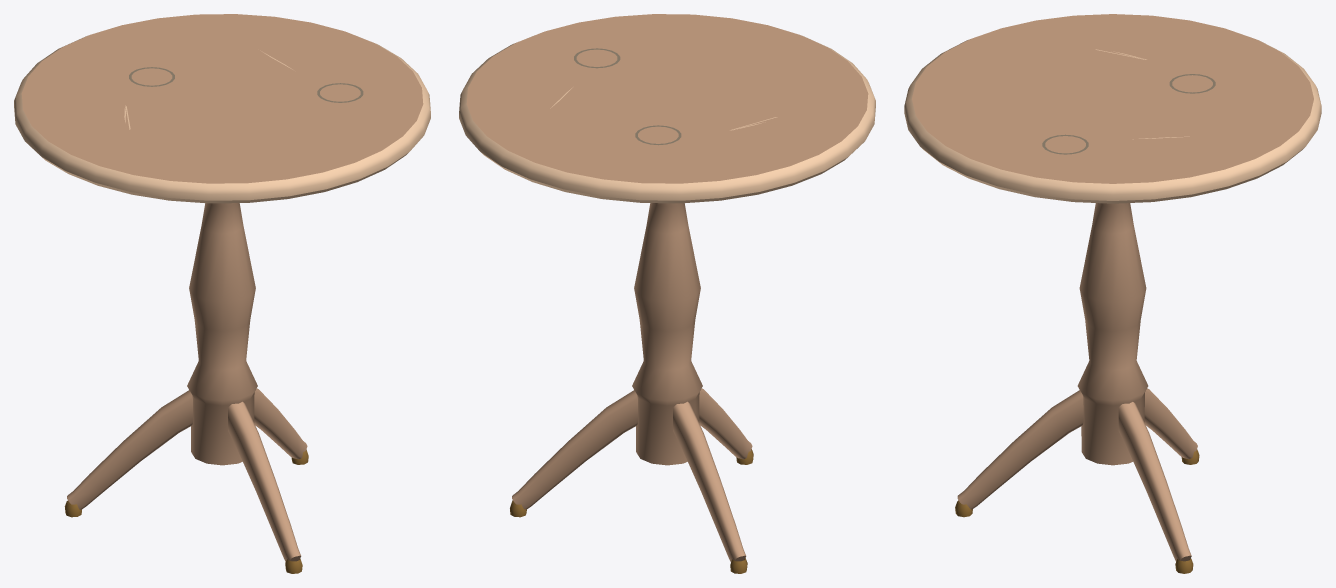
Rendered from side_table.glb.
3 renders of one model, left to right at view 1: azimuth 30°, elevation 25°; view 2: azimuth 150°, elevation 25°; view 3: azimuth 270°, elevation 25°, orthographic.
Parts seen in each view (by area): view 1: side_table2, side_table1, side_table4; view 2: side_table2, side_table1, side_table4; view 3: side_table2, side_table1, side_table4.
Part boxes in pixels (x1,y1,x2,y2): side_table2: (21, 14, 423, 561); side_table1: (14, 36, 430, 203); side_table4: (64, 449, 308, 573); side_table2: (466, 14, 868, 561); side_table1: (459, 36, 875, 203); side_table4: (510, 449, 753, 573); side_table2: (912, 14, 1313, 561); side_table1: (904, 39, 1321, 203); side_table4: (955, 449, 1199, 573).
Size of the model in its own units: 0.6 by 0.6603 by 0.6.
